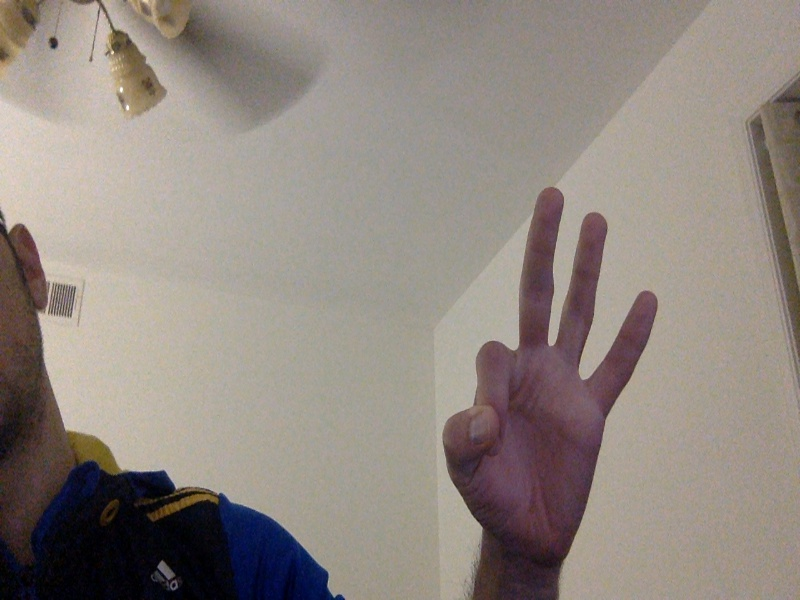3-hand: (439, 184, 660, 553)
